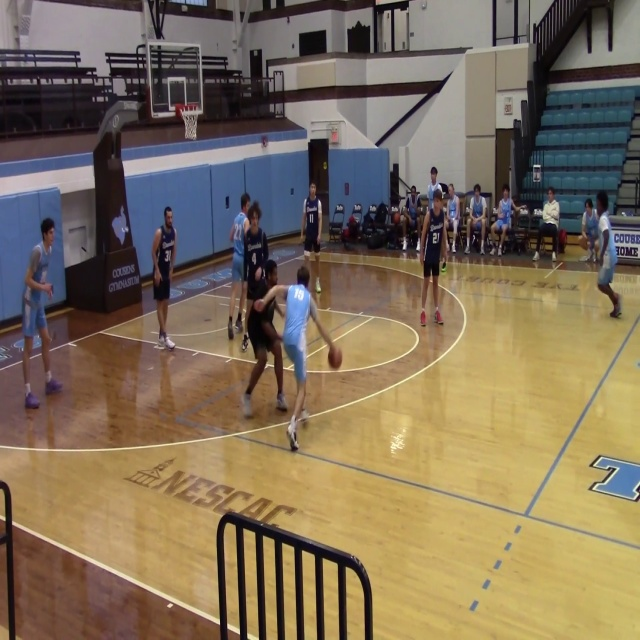Basketball: (327, 346, 342, 368), (253, 299, 265, 312), (578, 235, 588, 250)
